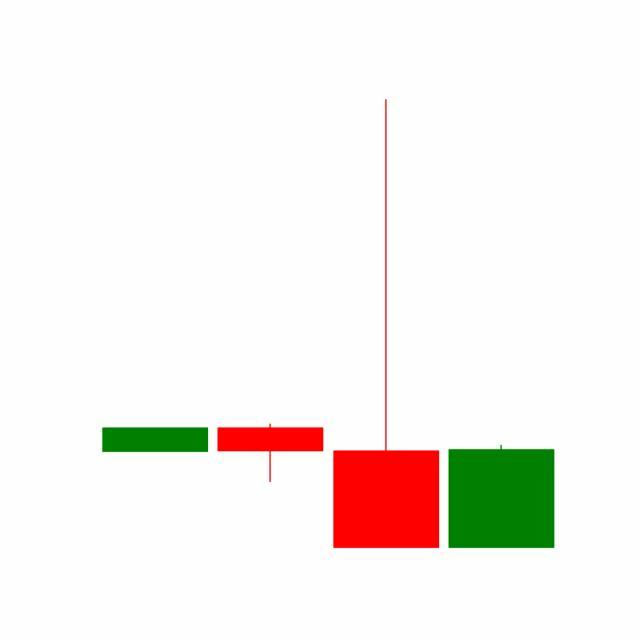Marubozu: (444, 444, 560, 549)
